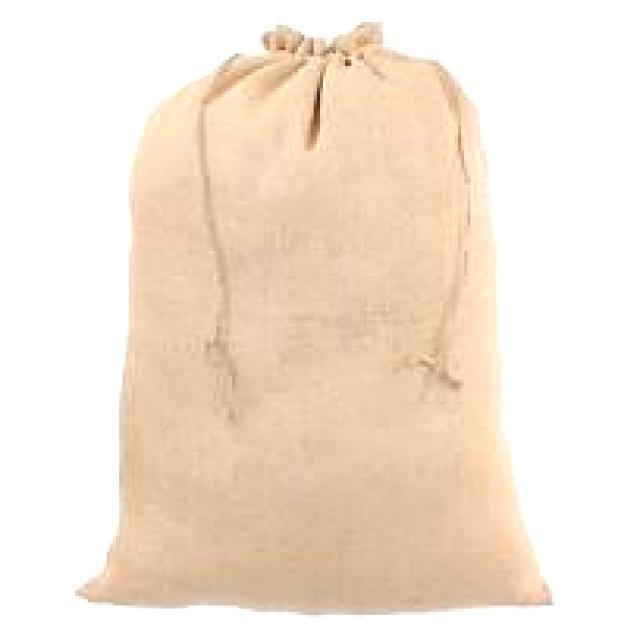gunny_bag: (66, 19, 554, 615)
